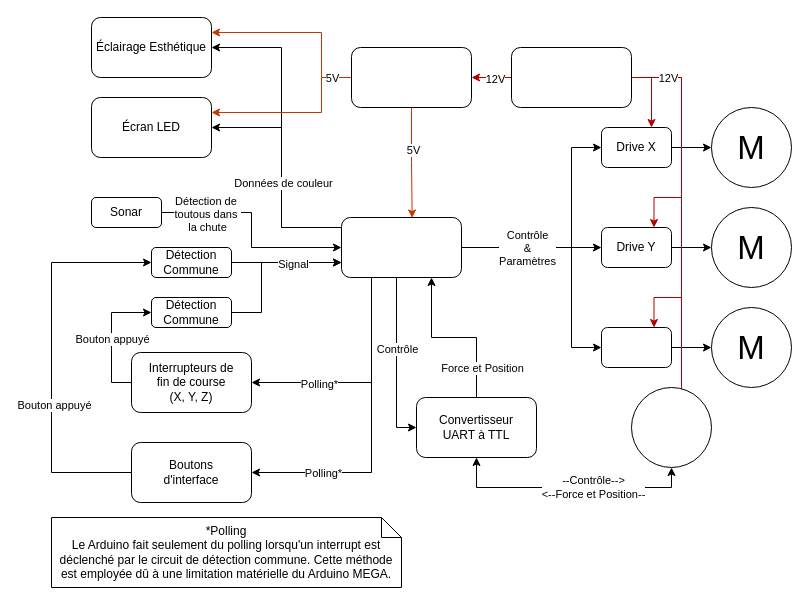
Some shapes in this 809 by 605 pixel diagram are drawn without their labels. Each missing label, with the centre of its shape:
Alimentaion 12V: [571,77]
Arduino MEGA: [401,247]
Convertisseur DC-DC 5V: [411,77]
Drive Z: [636,347]
Dynamixel (Pince): [671,427]
